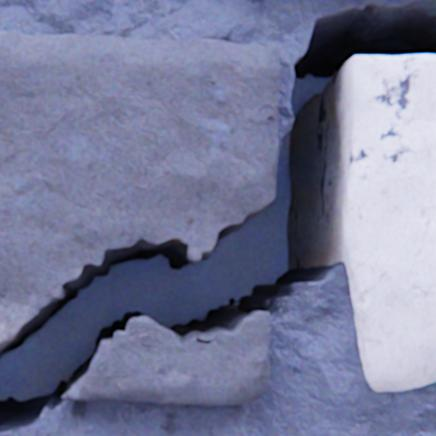brick: (342, 55, 435, 390)
broken_brick: (0, 32, 278, 348), (62, 312, 268, 404)
crack: (0, 0, 435, 434)
